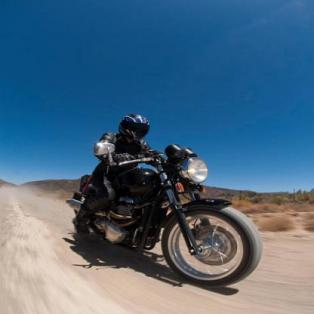Motocicleta: (71, 149, 266, 290)
